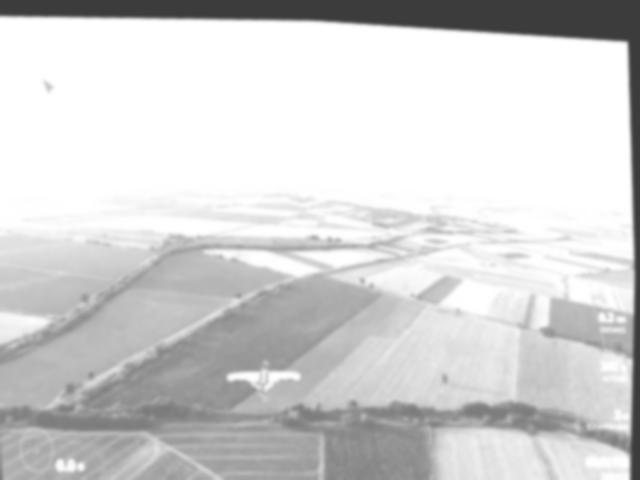hedef: (224, 342, 312, 410)
